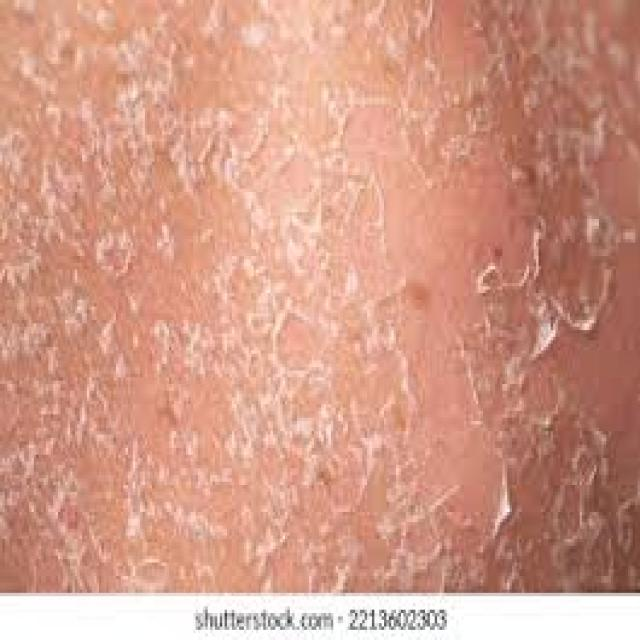flakiness: (24, 23, 564, 546)
